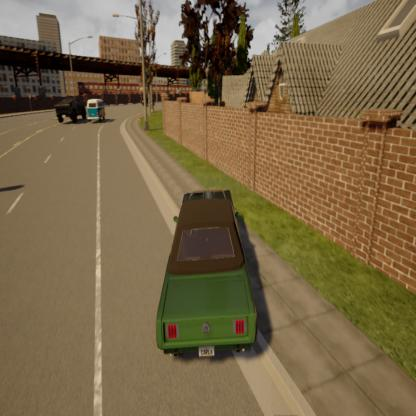Cars: (152, 190, 257, 360), (55, 95, 86, 126), (86, 97, 106, 123), (143, 92, 155, 112)
